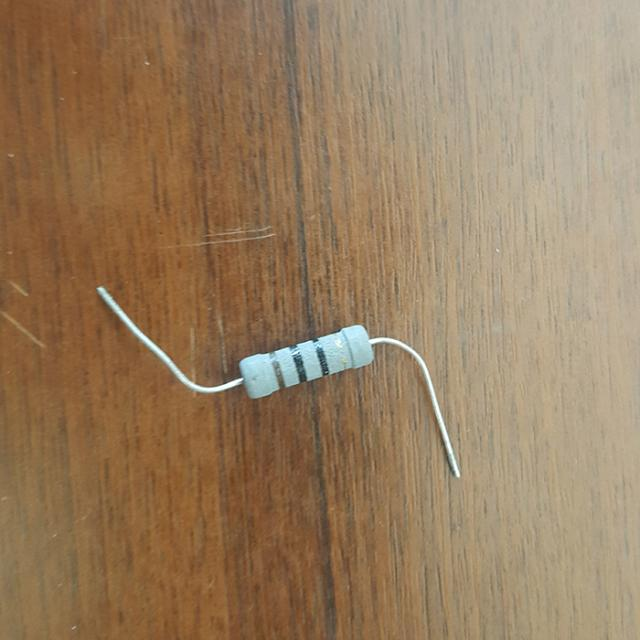black: (289, 346, 305, 381), (313, 339, 328, 375)
brown: (272, 354, 284, 388)
gold: (336, 333, 347, 368)
resistor: (228, 314, 387, 410)
